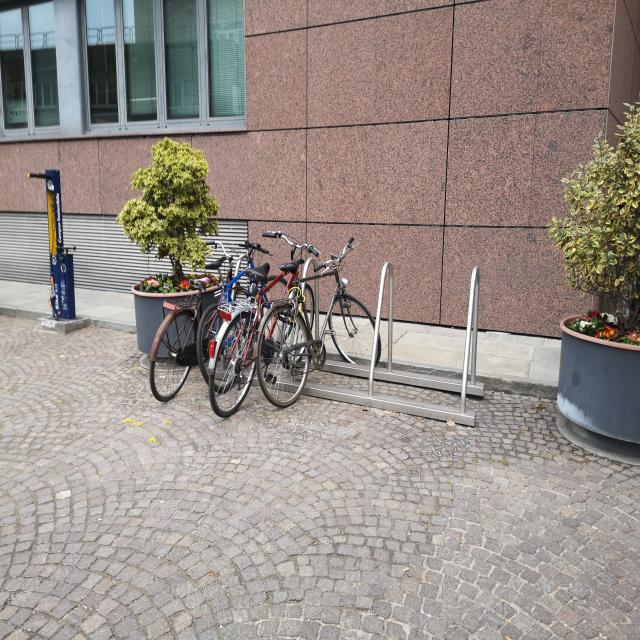Bicycle: (264, 243, 388, 418), (211, 214, 314, 420), (144, 223, 247, 408), (198, 202, 290, 382)
